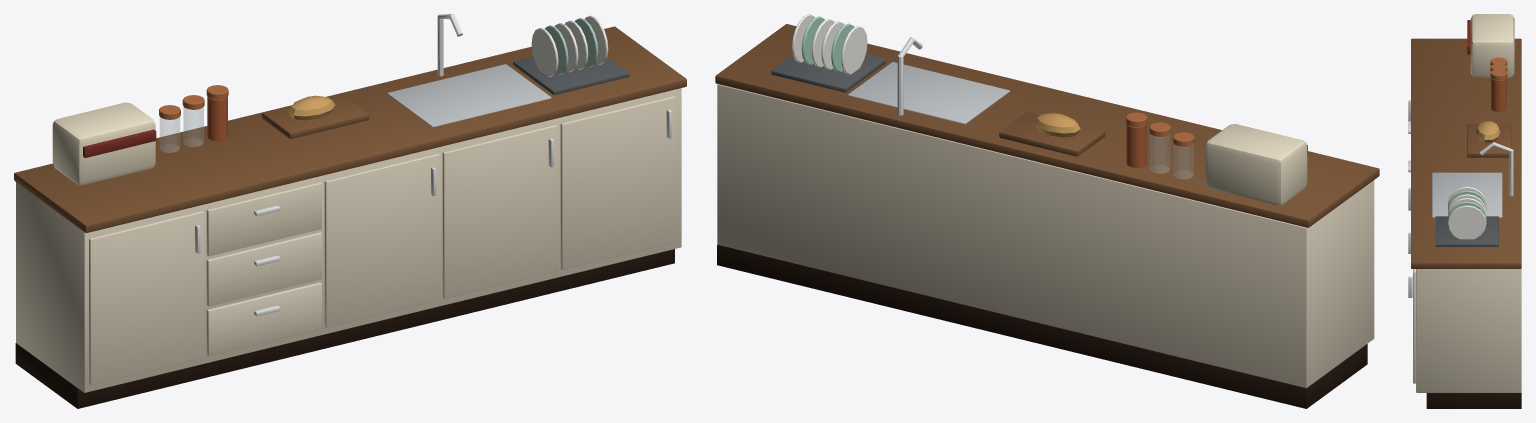
The model's file is mae_kitchen_run.glb.
The picture shows the model from 3 angles, left to right: view 1: azimuth 30°, elevation 25°; view 2: azimuth 150°, elevation 25°; view 3: azimuth 270°, elevation 25°; orthographic projection. The views are drawn at different scales.
Parts seen in each view (by area): view 1: mae_kitchen_run; view 2: mae_kitchen_run; view 3: mae_kitchen_run.
Boxes of the visible parts, left/top/right/bottom form: mae_kitchen_run: left=14, top=14, right=686, bottom=408; mae_kitchen_run: left=715, top=14, right=1379, bottom=408; mae_kitchen_run: left=1408, top=14, right=1521, bottom=408.
Size of the model in its own units: 3.02 by 1.25 by 0.645.
